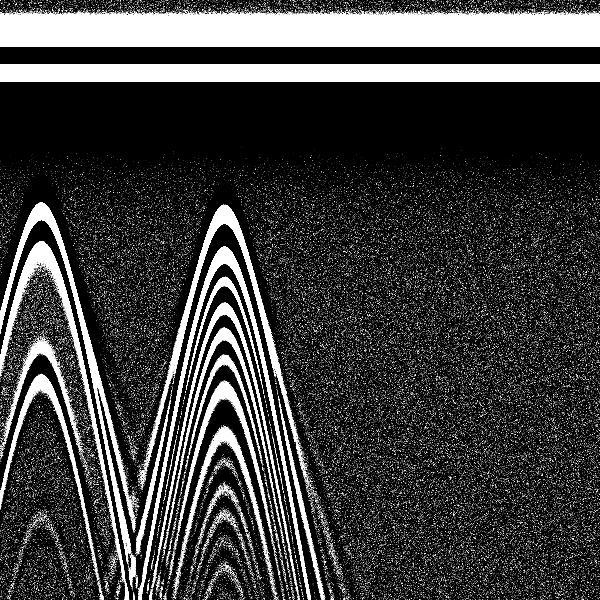pipe: (1, 4, 90, 299), (181, 4, 265, 291)
